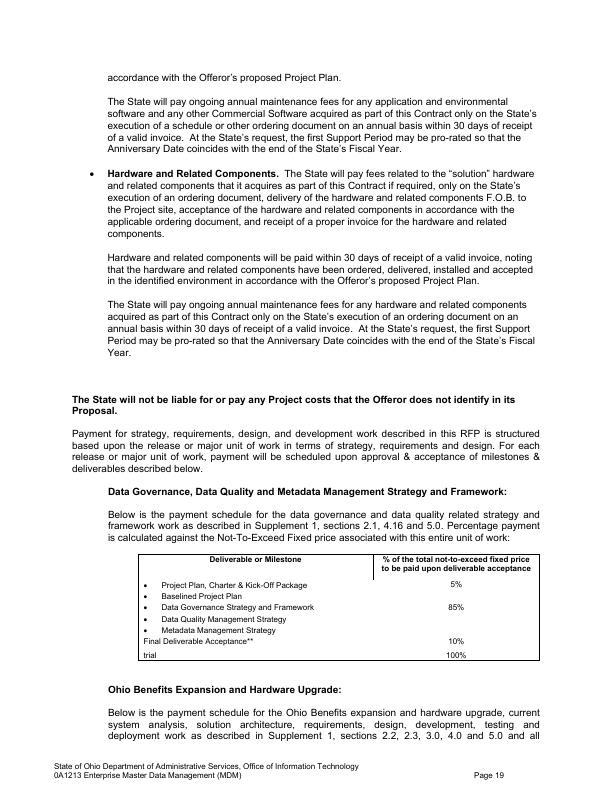table: (134, 549, 544, 666)
text: (104, 66, 542, 365), (67, 389, 549, 479), (103, 681, 545, 746), (106, 483, 549, 546), (49, 761, 363, 785), (471, 769, 509, 783)
